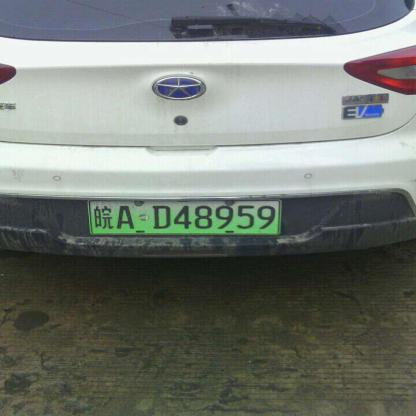lp: (90, 201, 279, 233)
